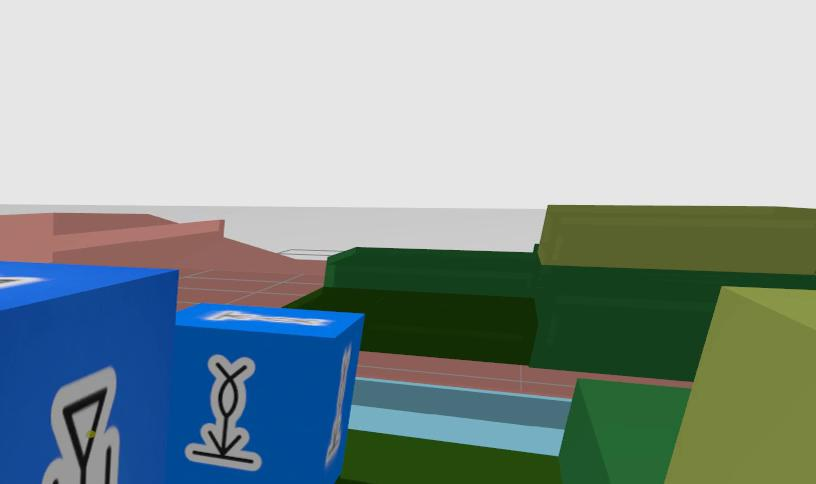KFS_REAL: (0, 262, 175, 483), (166, 303, 363, 483), (41, 367, 120, 483), (184, 354, 260, 470), (325, 348, 350, 464), (203, 309, 334, 326), (0, 275, 44, 289)
